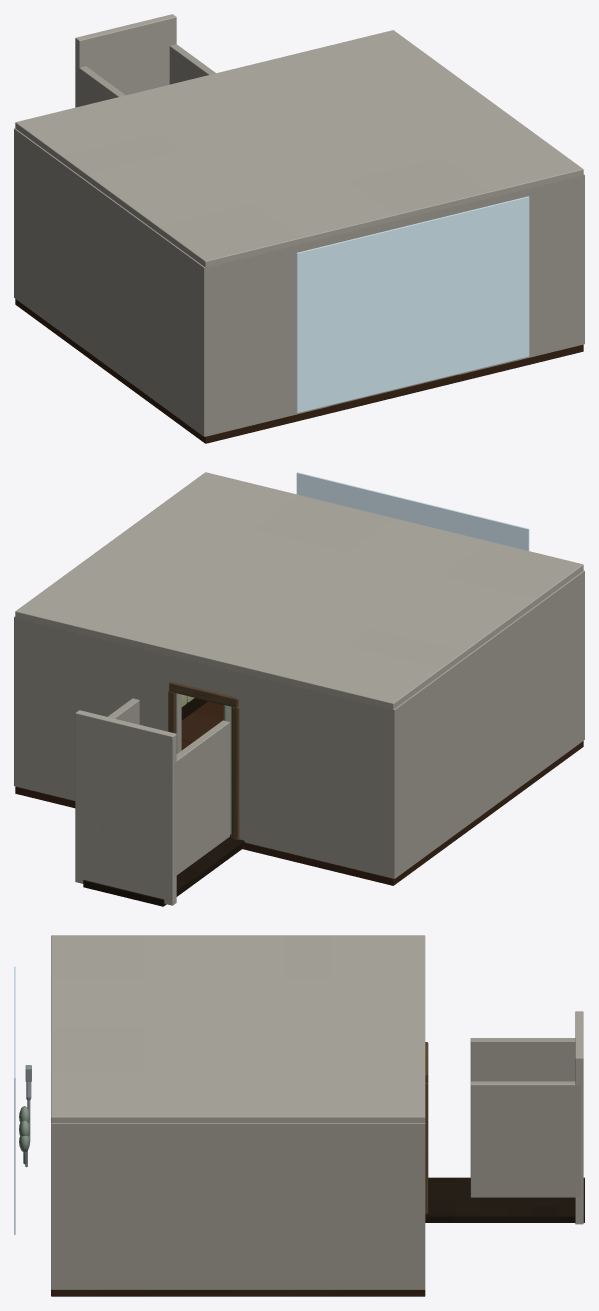
The model's file is apartment.glb.
The picture shows the model from 3 angles, top to bottom: view 1: azimuth 30°, elevation 25°; view 2: azimuth 150°, elevation 25°; view 3: azimuth 270°, elevation 25°; orthographic projection.
Visible parts, largest first — view 1: Stage_Putty window reveal, Stage_Matte putty plaster, Stage_Subdued morning sky, Stage_Polished oak boards; view 2: Stage_Putty window reveal, Stage_Matte putty plaster, Stage_Subdued morning sky, Stage_Polished oak boards, Stage_Dark timber shadow, Stage_Natural oak trim; view 3: Stage_Matte putty plaster, Stage_Putty window reveal, Stage_Dark timber shadow, Stage_Polished oak boards, Stage_Natural oak trim, Stage_Subdued morning sky.
Part boxes in pixels (x1=…): Stage_Putty window reveal: x1=15, y1=14, x2=583, y2=268; Stage_Matte putty plaster: x1=14, y1=44, x2=584, y2=436; Stage_Subdued morning sky: x1=296, y1=196, x2=529, y2=412; Stage_Polished oak boards: x1=15, y1=299, x2=583, y2=443; Stage_Putty window reveal: x1=15, y1=472, x2=583, y2=905; Stage_Matte putty plaster: x1=14, y1=570, x2=584, y2=878; Stage_Subdued morning sky: x1=296, y1=472, x2=529, y2=550; Stage_Polished oak boards: x1=15, y1=701, x2=583, y2=885; Stage_Dark timber shadow: x1=83, y1=698, x2=244, y2=906; Stage_Natural oak trim: x1=168, y1=681, x2=239, y2=840; Stage_Matte putty plaster: x1=51, y1=1038, x2=580, y2=1289; Stage_Putty window reveal: x1=51, y1=935, x2=583, y2=1224; Stage_Dark timber shadow: x1=425, y1=1177, x2=584, y2=1222; Stage_Polished oak boards: x1=51, y1=1290, x2=425, y2=1296; Stage_Natural oak trim: x1=425, y1=1042, x2=428, y2=1213; Stage_Subdued morning sky: x1=14, y1=966, x2=15, y2=1234.
Bounding box in the file's own units: 6.24 × 2.92 × 8.23.
41 materials, 12 textured.
